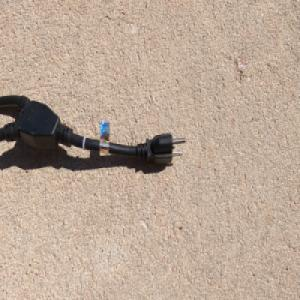Wire: (0, 92, 188, 167)
